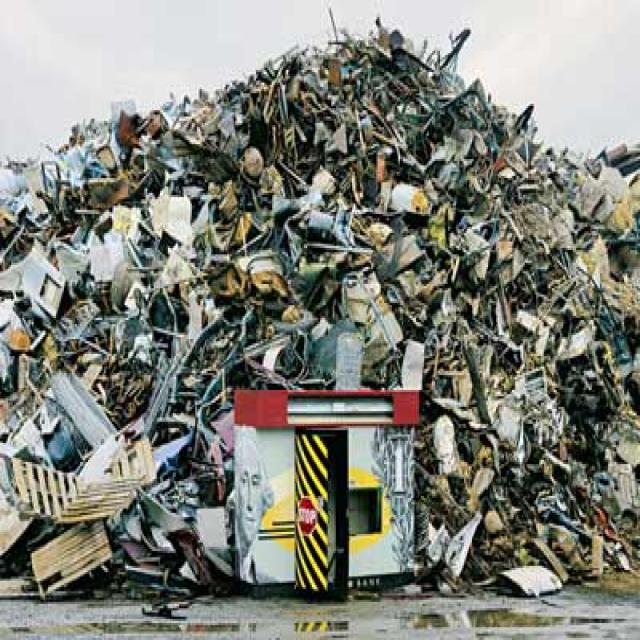garbage: (0, 30, 629, 623)
